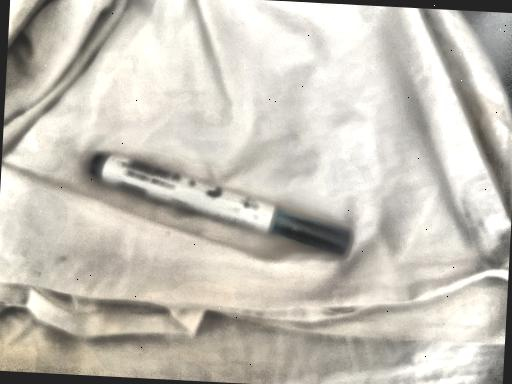marcador negro: (89, 154, 350, 255)
